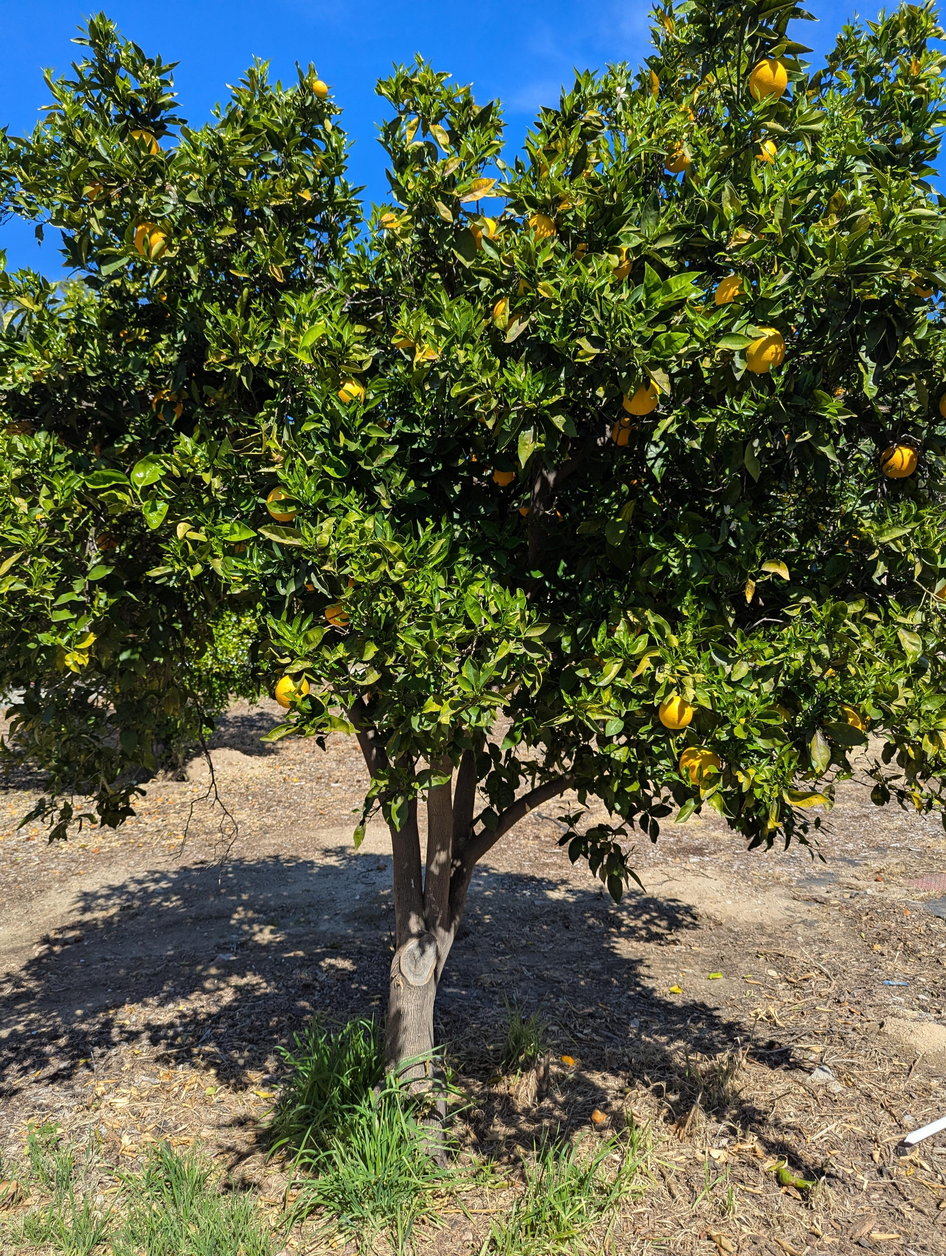orange: (744, 325, 786, 373), (679, 744, 721, 786), (749, 59, 788, 102), (623, 377, 659, 416), (880, 444, 918, 478), (275, 674, 309, 709), (134, 223, 167, 259), (715, 275, 753, 306), (659, 696, 693, 729), (493, 297, 524, 332), (267, 486, 296, 522), (152, 389, 183, 421), (469, 218, 499, 251), (664, 140, 691, 173), (125, 130, 160, 154), (529, 213, 556, 243), (87, 178, 120, 202), (337, 376, 364, 404), (611, 248, 633, 282), (325, 599, 350, 626), (611, 418, 631, 446), (756, 140, 777, 166), (395, 329, 418, 352), (842, 707, 862, 731), (611, 622, 641, 637), (855, 703, 871, 731), (97, 532, 118, 550), (495, 469, 515, 484), (911, 286, 934, 298), (312, 81, 328, 98), (574, 243, 587, 261), (493, 476, 512, 486), (939, 393, 946, 418), (235, 542, 247, 554), (315, 156, 323, 169), (520, 507, 529, 517), (304, 585, 316, 591), (348, 578, 355, 588)
